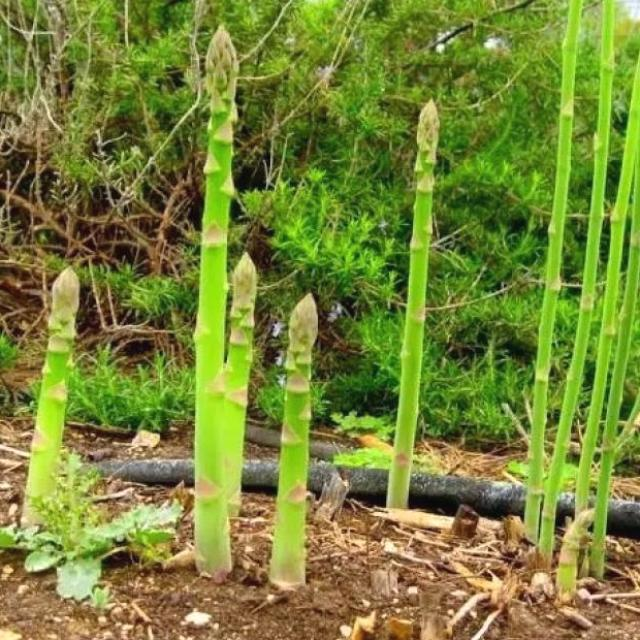aspargus: (186, 22, 241, 566), (388, 102, 439, 510), (23, 270, 80, 533), (270, 299, 316, 591)
